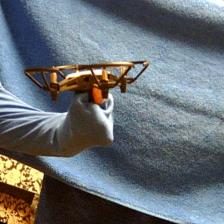drone: (22, 60, 149, 101)
